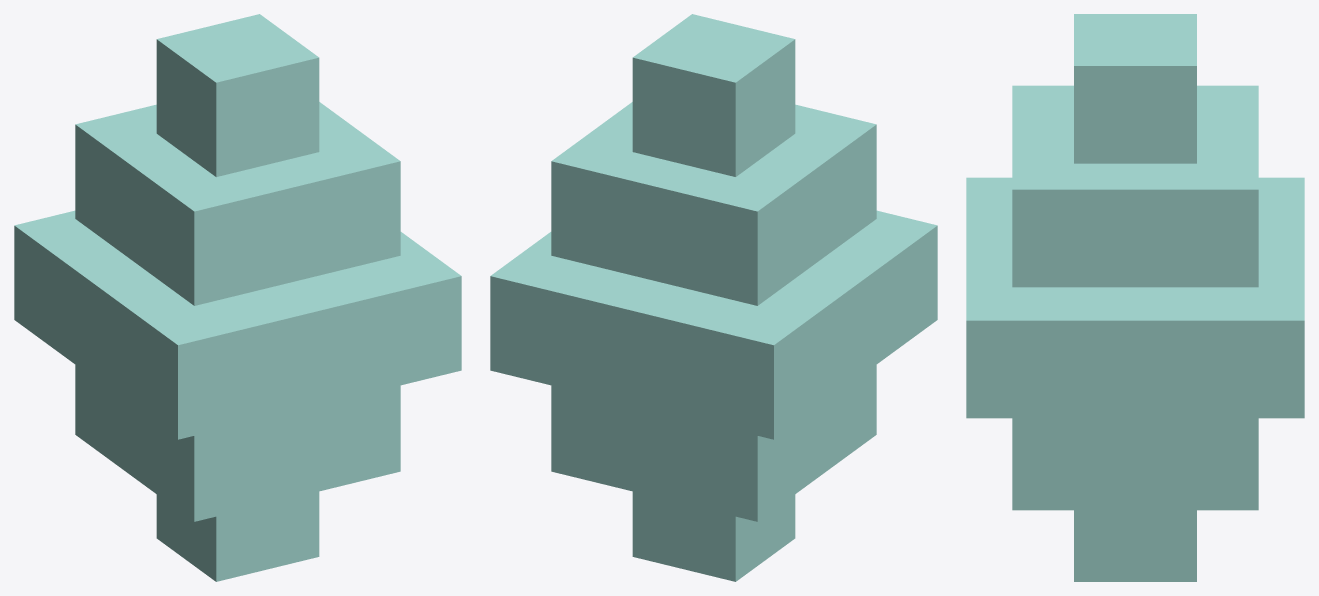
The model's file is project_crystal.glb.
The picture shows the model from 3 angles, left to right: view 1: azimuth 30°, elevation 25°; view 2: azimuth 150°, elevation 25°; view 3: azimuth 270°, elevation 25°; orthographic projection. The views are drawn at different scales.
Visible parts, largest first — view 1: gem (×5); view 2: gem (×5); view 3: gem (×5).
Boxes of the visible parts, box(x1,y1,x2,y2) form: gem (×5): box(14, 14, 461, 581); gem (×5): box(490, 14, 937, 581); gem (×5): box(966, 14, 1304, 581).
Size of the model in its own units: 1.1 by 1.85 by 1.1.
